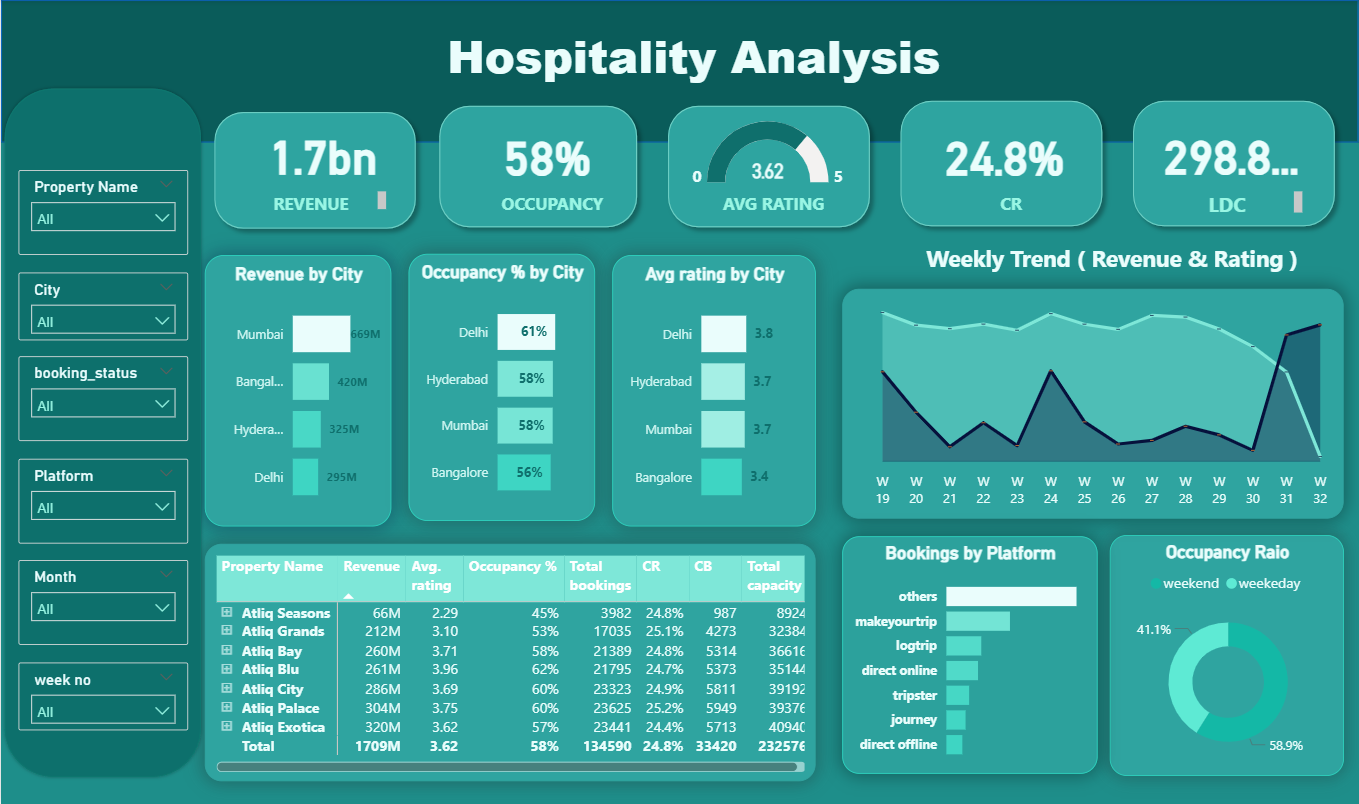

The dashboard page shown, as its layout file describes it:
{"tool":"powerbi","page":{"name":"Overall Analysis","canvas":[1280,760],"ordinal":0},"visuals":[{"type":"shape","box":[0,0,1280,134.4],"z":0},{"type":"textbox","box":[0,16,1278.1,75.7],"z":0,"group":"g1"},{"type":"group","id":"g1","title":"visuals","box":[0,16,1278.1,720],"z":1000},{"type":"shape","box":[1058.5,86.1,208.3,136.3],"z":1000,"group":"g1"},{"type":"shape","box":[839.3,86.1,208.3,136.3],"z":2000,"group":"g1"},{"type":"textbox","box":[448,176,144,32],"z":2000},{"type":"shape","box":[620.1,89.8,208.3,132.5],"z":3000,"group":"g1"},{"type":"textbox","box":[880,176,144,32],"z":3000},{"type":"shape","box":[404.7,89.8,204.5,132.5],"z":4000,"group":"g1"},{"type":"textbox","box":[1088,176,144,32],"z":4000},{"type":"textbox","box":[224,176,144,32],"z":5000},{"type":"clusteredBarChart","title":"Revenue by City","fields":{"Category":["dim_hotels.city"],"Y":["resource_measures.revenue"]},"box":[192,240,176,256],"z":5000,"group":"g1"},{"type":"card","fields":{"Values":["resource_measures.Occupancy %"]},"box":[454.4,112.6,119.3,64.4],"z":6000,"group":"g1"},{"type":"textbox","box":[656,176,144,32],"z":6000},{"type":"textbox","box":[816,224,464,48],"z":6500},{"type":"clusteredBarChart","title":"Occupancy % by City","fields":{"Category":["dim_hotels.city"],"Y":["resource_measures.Occupancy %"]},"box":[384.1,238.6,176.4,252.2],"z":7000,"group":"g1"},{"type":"gauge","fields":{"MaxValue":["resource_measures.max.rating"],"MinValue":["resource_measures.min.rating"],"Y":["resource_measures.avg.rating mod"]},"box":[643,103.4,161.6,84.1],"z":8000,"group":"g1"},{"type":"clusteredBarChart","title":"Avg rating by City","fields":{"Category":["dim_hotels.city"],"Y":["resource_measures.Avg. rating"]},"box":[576,240,192,256],"z":9000,"group":"g1"},{"type":"donutChart","title":"Occupancy Raio","fields":{"Category":["dim_date.day_type"],"Y":["resource_measures.Occupancy %"]},"box":[1045.2,504,220.9,227.5],"z":10000,"group":"g1"},{"type":"areaChart","title":"Weekly Trend (Revenue & Rating)","fields":{"Category":["dim_date.week no"],"Y2":["resource_measures.Avg. rating"],"Y":["resource_measures.revenue"]},"box":[793.2,272.3,473.2,216.9],"z":11000,"group":"g1"},{"type":"clusteredBarChart","title":"Bookings by Platform","fields":{"Category":["fact_bookings.booking_platform"],"Y":["resource_measures.Total bookings"]},"box":[793,505.6,240.7,224.2],"z":12000,"group":"g1"},{"type":"pivotTable","fields":{"Rows":["dim_hotels.property_name","dim_hotels.city"],"Values":["resource_measures.revenue","resource_measures.Avg. rating","resource_measures.Occupancy %","resource_measures.Total bookings","resource_measures.CR","resource_measures.Total cancelled bookings","resource_measures.Total capacity"]},"box":[192,512,576,224],"z":13000,"group":"g1"},{"type":"shape","box":[0,80,192,656],"z":14000,"group":"g1"},{"type":"slicer","fields":{"Values":["dim_date.week no"]},"box":[16,624,160,64],"z":15000,"group":"g1"},{"type":"slicer","fields":{"Values":["dim_date.mmm yy.Variation.Date Hierarchy.Month"]},"box":[16,528,160,80],"z":16000,"group":"g1"},{"type":"slicer","fields":{"Values":["fact_bookings.booking_platform"]},"box":[16,432,160,80],"z":17000,"group":"g1"},{"type":"slicer","fields":{"Values":["fact_bookings.booking_status"]},"box":[16,336,160,80],"z":18000,"group":"g1"},{"type":"slicer","fields":{"Values":["dim_hotels.city"]},"box":[16,256,160,64],"z":19000,"group":"g1"},{"type":"slicer","fields":{"Values":["dim_hotels.property_name"]},"box":[16,160,160,80],"z":20000,"group":"g1"},{"type":"card","fields":{"Values":["resource_measures.LDC"]},"box":[1088,112,144,64],"z":21000,"group":"g1"},{"type":"card","fields":{"Values":["resource_measures.CR"]},"box":[869.1,93.6,155.3,102.2],"z":22000,"group":"g1"},{"type":"shape","box":[192,96,208,128],"z":23000,"group":"g1"},{"type":"card","fields":{"Values":["resource_measures.revenue"]},"box":[224,112,160,64],"z":24000,"group":"g1"}]}

Visuals, with their boxes in screenshot pixels (x1, y1, x2, y2), scaled from the page's 1280x760 canvas onto the 1359x804 screenshot:
shape: select_region(0, 0, 1358, 142)
textbox: select_region(0, 17, 1357, 97)
"visuals" group: select_region(0, 17, 1357, 779)
shape: select_region(1124, 91, 1345, 235)
shape: select_region(891, 91, 1112, 235)
textbox: select_region(476, 186, 629, 220)
shape: select_region(658, 95, 880, 235)
textbox: select_region(934, 186, 1087, 220)
shape: select_region(430, 95, 647, 235)
textbox: select_region(1155, 186, 1308, 220)
textbox: select_region(238, 186, 391, 220)
"Revenue by City" clusteredBarChart: select_region(204, 254, 391, 525)
card - resource_measures.Occupancy %: select_region(482, 119, 609, 187)
textbox: select_region(696, 186, 849, 220)
textbox: select_region(866, 237, 1358, 288)
"Occupancy % by City" clusteredBarChart: select_region(408, 252, 595, 519)
gauge - resource_measures.max.rating x resource_measures.min.rating: select_region(683, 109, 854, 198)
"Avg rating by City" clusteredBarChart: select_region(612, 254, 815, 525)
"Occupancy Raio" donutChart: select_region(1110, 533, 1344, 774)
"Weekly Trend (Revenue & Rating)" areaChart: select_region(842, 288, 1345, 518)
"Bookings by Platform" clusteredBarChart: select_region(842, 535, 1097, 772)
pivotTable - dim_hotels.property_name x dim_hotels.city: select_region(204, 542, 815, 779)
shape: select_region(0, 85, 204, 779)
slicer - dim_date.week no: select_region(17, 660, 187, 728)
slicer - dim_date.mmm yy.Variation.Date Hierarchy.Month: select_region(17, 559, 187, 643)
slicer - fact_bookings.booking_platform: select_region(17, 457, 187, 542)
slicer - fact_bookings.booking_status: select_region(17, 355, 187, 440)
slicer - dim_hotels.city: select_region(17, 271, 187, 339)
slicer - dim_hotels.property_name: select_region(17, 169, 187, 254)
card - resource_measures.LDC: select_region(1155, 118, 1308, 186)
card - resource_measures.CR: select_region(923, 99, 1088, 207)
shape: select_region(204, 102, 425, 237)
card - resource_measures.revenue: select_region(238, 118, 408, 186)
